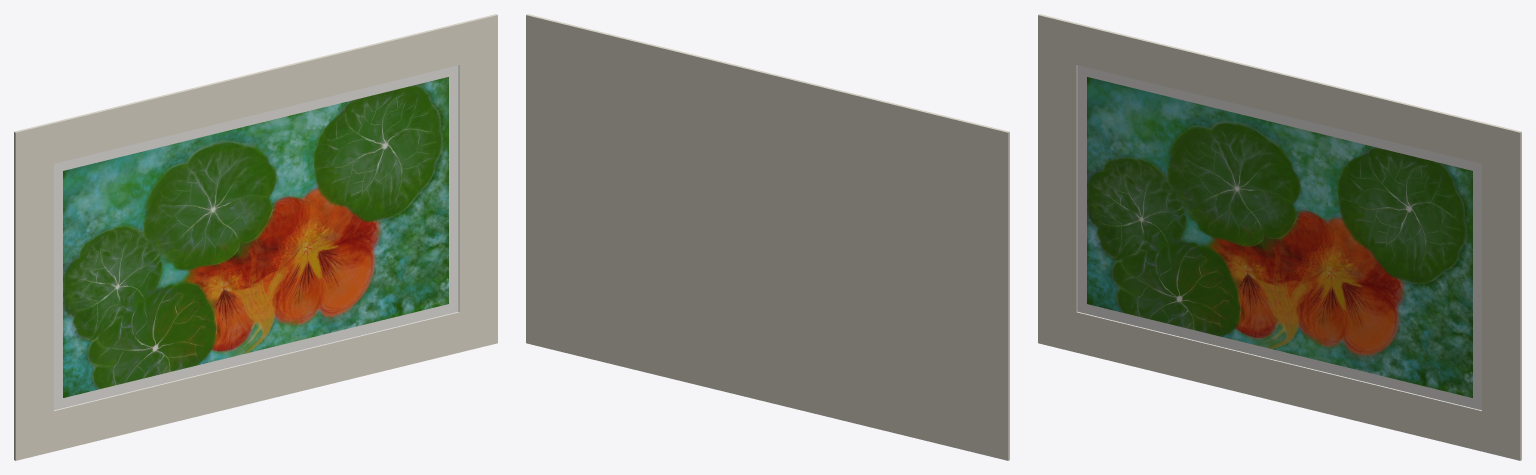
The model's file is hz019_moyen_passe-partout.glb.
The picture shows the model from 3 angles, left to right: view 1: azimuth 30°, elevation 25°; view 2: azimuth 150°, elevation 25°; view 3: azimuth 330°, elevation 25°; orthographic projection.
Parts seen in each view (by area): view 1: hz019_moyen_passe-partout; view 2: hz019_moyen_passe-partout; view 3: hz019_moyen_passe-partout.
Boxes of the visible parts, bbox=[...] form: hz019_moyen_passe-partout: bbox=[14, 14, 497, 460]; hz019_moyen_passe-partout: bbox=[526, 14, 1009, 460]; hz019_moyen_passe-partout: bbox=[1038, 14, 1521, 460].
Size of the model in its own units: 1 by 0.65 by 0.0055.
4 materials, 1 textured.
